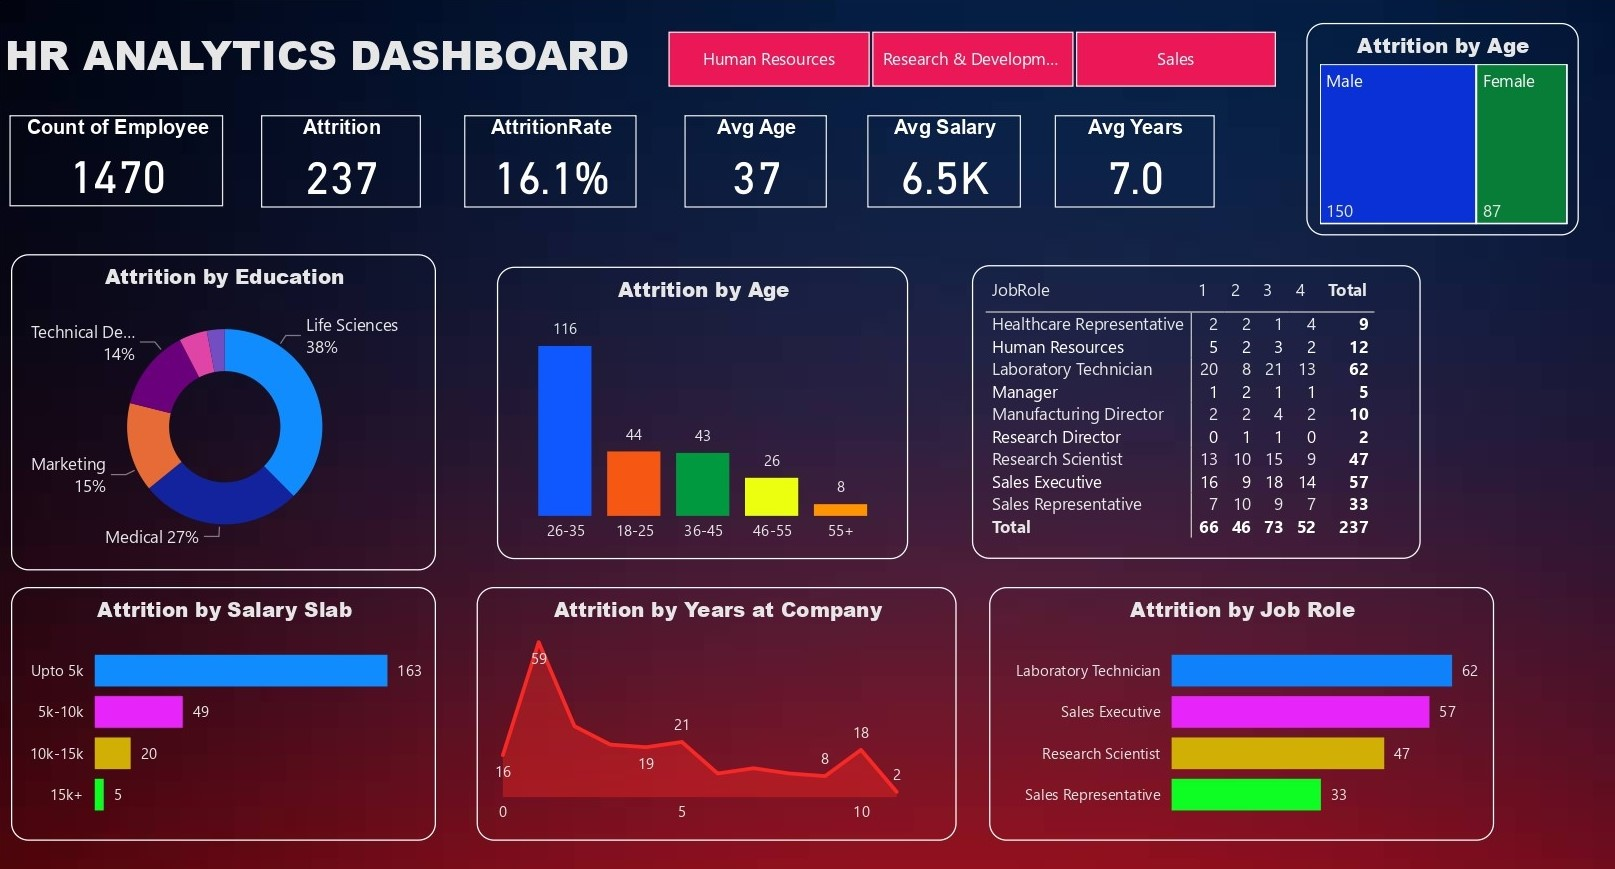

This screenshot's page, from the dashboard's own definition file:
{"tool":"powerbi","page":{"name":"Page 1","canvas":[1280,720],"ordinal":0},"visuals":[{"type":"card","title":"Count of Employee","fields":{"Values":["CountNonNull(HR_Analytics.EmpID)"]},"box":[8.8,92.5,171.2,73],"z":0},{"type":"card","title":"Attrition","fields":{"Values":["Sum(HR_Analytics.AttritionCount)"]},"box":[210,92.5,127.5,73.8],"z":1000},{"type":"card","title":"AttritionRate","fields":{"Values":["HR_Analytics.AttritionRate"]},"box":[372.5,92.5,137.5,73.8],"z":2000},{"type":"card","title":"Avg Age","fields":{"Values":["Avg(HR_Analytics.Age)"]},"box":[548.8,92.5,113.8,73.8],"z":3000},{"type":"card","title":"Avg Salary","fields":{"Values":["Avg(HR_Analytics.MonthlyIncome)"]},"box":[695,92.5,122.5,73.8],"z":4000},{"type":"card","title":"Avg Years","fields":{"Values":["Avg(HR_Analytics.YearsAtCompany)"]},"box":[845,92.5,127.5,73.8],"z":5000},{"type":"donutChart","title":"Attrition by Education","fields":{"Y":["Sum(HR_Analytics.AttritionCount)"],"Category":["HR_Analytics.EducationField"]},"box":[10,203.8,340,252.5],"z":6000},{"type":"columnChart","title":"Attrition by Age","fields":{"Category":["HR_Analytics.AgeGroup"],"Y":["Sum(HR_Analytics.AttritionCount)"]},"box":[398.8,213.8,328.8,233.8],"z":7000},{"type":"pivotTable","fields":{"Values":["Sum(HR_Analytics.AttritionCount)"],"Rows":["HR_Analytics.JobRole"],"Columns":["HR_Analytics.JobSatisfaction"]},"box":[778.8,212.5,358.8,235],"z":8000},{"type":"barChart","title":"Attrition by Salary Slab","fields":{"Category":["HR_Analytics.SalarySlab"],"Y":["Sum(HR_Analytics.AttritionCount)"]},"box":[10,470,340,202.5],"z":9000},{"type":"barChart","title":"Attrition by Job Role","fields":{"Y":["Sum(HR_Analytics.AttritionCount)"],"Category":["HR_Analytics.JobRole"]},"box":[792.5,470,403.8,202.5],"z":10000},{"type":"areaChart","title":"Attrition by Years at Company","fields":{"Y":["Sum(HR_Analytics.AttritionCount)"],"Category":["HR_Analytics.YearsAtCompany"]},"box":[382.5,470,383.8,202.5],"z":11000},{"type":"treemap","title":"Attrition by Age","fields":{"Values":["Sum(HR_Analytics.AttritionCount)"],"Group":["HR_Analytics.Gender"]},"box":[1046.2,18.8,217.5,170],"z":12000},{"type":"slicer","title":"Department","fields":{"Values":["HR_Analytics.Department"]},"box":[510,18.8,536.2,57.5],"z":13000},{"type":"textbox","box":[0,16.2,528.8,62.5],"z":14000}]}

Visuals, with their boxes in screenshot pixels (x1, y1, x2, y2):
"Count of Employee" card: detection(11, 114, 223, 205)
"Attrition" card: detection(260, 114, 417, 206)
"AttritionRate" card: detection(461, 114, 630, 206)
"Avg Age" card: detection(678, 114, 819, 206)
"Avg Salary" card: detection(859, 114, 1011, 206)
"Avg Years" card: detection(1045, 114, 1202, 206)
"Attrition by Education" donutChart: detection(12, 252, 433, 564)
"Attrition by Age" columnChart: detection(493, 264, 900, 553)
pivotTable - Sum(HR_Analytics.AttritionCount) x HR_Analytics.JobRole: detection(963, 263, 1406, 553)
"Attrition by Salary Slab" barChart: detection(12, 581, 433, 831)
"Attrition by Job Role" barChart: detection(980, 581, 1479, 831)
"Attrition by Years at Company" areaChart: detection(473, 581, 947, 831)
"Attrition by Age" treemap: detection(1293, 23, 1562, 233)
"Department" slicer: detection(630, 23, 1293, 94)
textbox: detection(0, 20, 654, 97)
